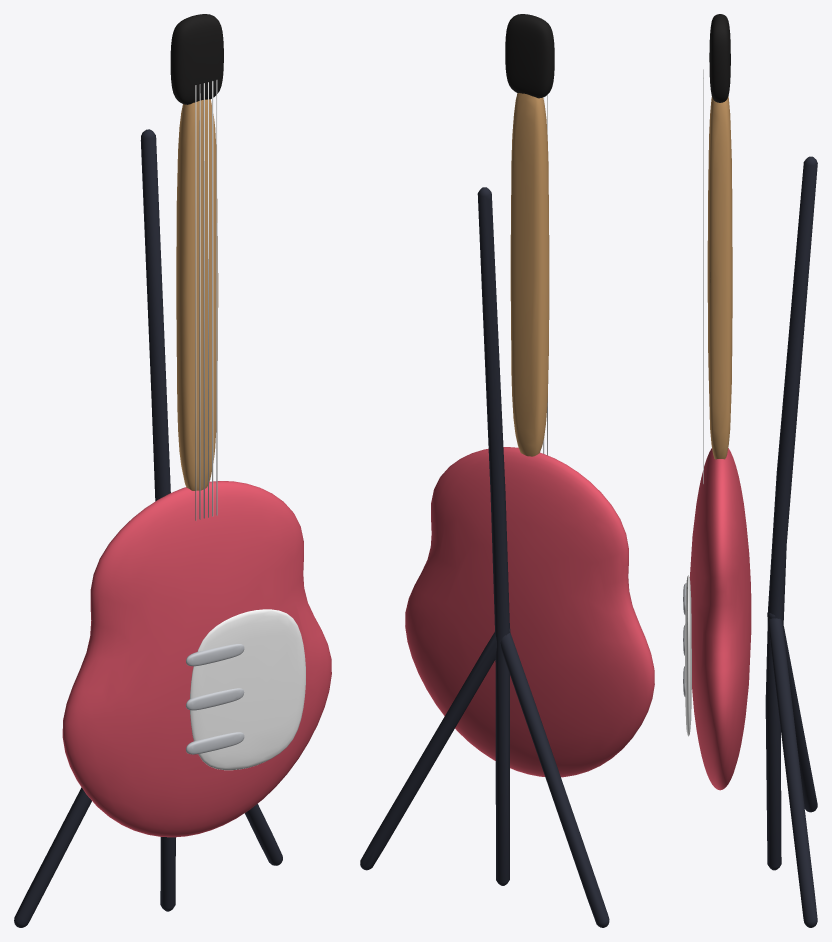
File: deco_guitarra_electrica.glb
3 views of the same model, side by side, from view 1: azimuth 30°, elevation 25°; view 2: azimuth 150°, elevation 25°; view 3: azimuth 270°, elevation 25° (orthographic). The views are drawn at different scales.
Visible parts, largest first — view 1: cuerpo guitarra.001, mástil guitarra.001, golpeador.001, cuello atril.001, clavijero guitarra.001, pata atril -1.001, pata atril 1.001, cuerda 0.003, cuerda 1.003, cuerda 4.001, cuerda 5.001, cuerda 2.003 (+3 smaller); view 2: cuerpo guitarra.001, mástil guitarra.001, cuello atril.001, pata atril -1.001, pata atril 1.001, clavijero guitarra.001; view 3: cuerpo guitarra.001, cuello atril.001, mástil guitarra.001, pata atril 1.001, clavijero guitarra.001, pata atril -1.001, golpeador.001, cuerda 5.001.
Boxes of the visible parts, x1=… form: cuerpo guitarra.001: x1=62, y1=481, x2=331, y2=837; mástil guitarra.001: x1=176, y1=99, x2=218, y2=490; golpeador.001: x1=190, y1=609, x2=305, y2=770; cuello atril.001: x1=140, y1=129, x2=175, y2=911; clavijero guitarra.001: x1=170, y1=14, x2=223, y2=104; pata atril -1.001: x1=14, y1=787, x2=91, y2=927; pata atril 1.001: x1=244, y1=803, x2=282, y2=865; cuerda 0.003: x1=195, y1=85, x2=196, y2=520; cuerda 1.003: x1=199, y1=84, x2=200, y2=519; cuerda 4.001: x1=212, y1=81, x2=213, y2=516; cuerda 5.001: x1=216, y1=80, x2=217, y2=515; cuerda 2.003: x1=203, y1=83, x2=204, y2=518; cuerpo guitarra.001: x1=405, y1=447, x2=654, y2=777; mástil guitarra.001: x1=510, y1=93, x2=549, y2=456; cuello atril.001: x1=477, y1=187, x2=509, y2=885; pata atril -1.001: x1=500, y1=632, x2=609, y2=927; pata atril 1.001: x1=360, y1=628, x2=510, y2=870; clavijero guitarra.001: x1=505, y1=14, x2=554, y2=98; cuerpo guitarra.001: x1=689, y1=448, x2=751, y2=790; cuello atril.001: x1=765, y1=156, x2=817, y2=870; mástil guitarra.001: x1=707, y1=96, x2=732, y2=459; pata atril 1.001: x1=767, y1=613, x2=817, y2=927; clavijero guitarra.001: x1=709, y1=14, x2=730, y2=102; pata atril -1.001: x1=767, y1=612, x2=817, y2=812; golpeador.001: x1=685, y1=575, x2=691, y2=736; cuerda 5.001: x1=703, y1=79, x2=703, y2=483.
Size of the model in its own units: 0.3173 by 1.04 by 0.149.
